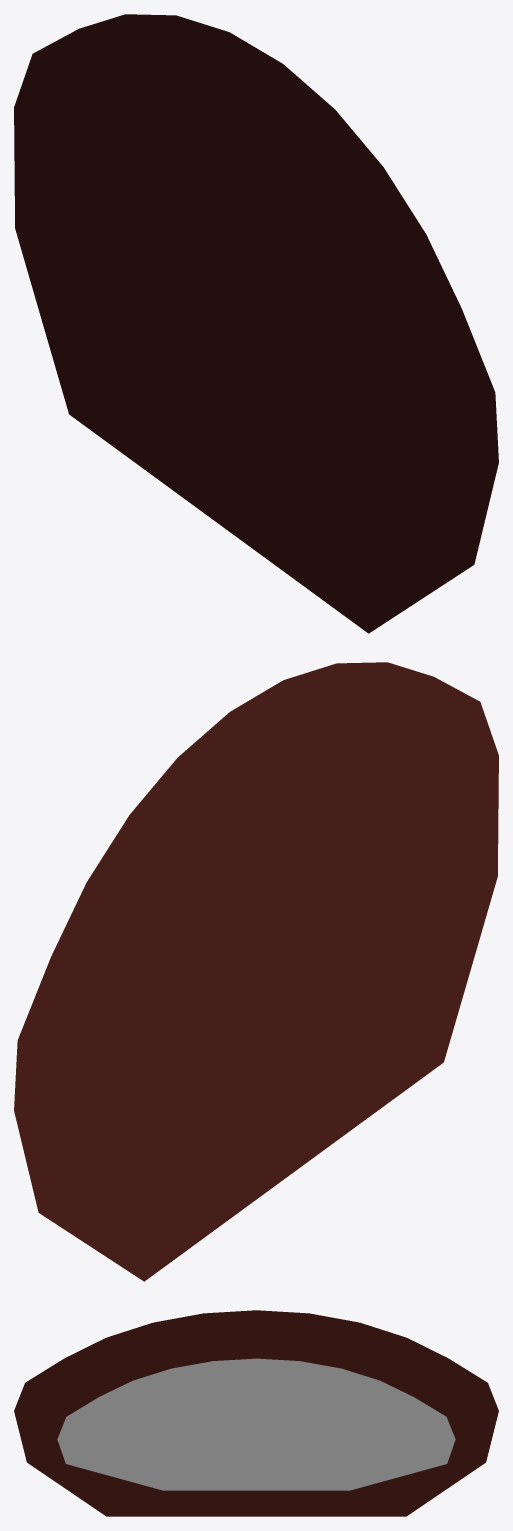
The model's file is AgnaMouth.glb.
3 renders of one model, top to bottom at view 1: azimuth 30°, elevation 25°; view 2: azimuth 150°, elevation 25°; view 3: azimuth 270°, elevation 25°, orthographic. The views are drawn at different scales.
Visible parts, largest first — view 1: AgnaMouth; view 2: AgnaMouth; view 3: AgnaMouth.
Boxes of the visible parts, bbox=[...] form: AgnaMouth: bbox=[14, 14, 498, 633]; AgnaMouth: bbox=[14, 662, 498, 1281]; AgnaMouth: bbox=[14, 1310, 498, 1516].
Size of the model in its own units: 0.0366 by 0.1902 by 0.3762.
